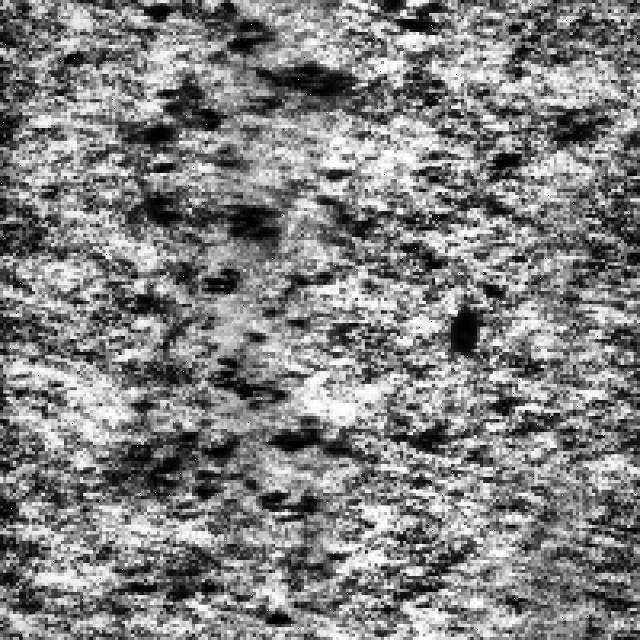Crazing: (150, 26, 368, 516)
